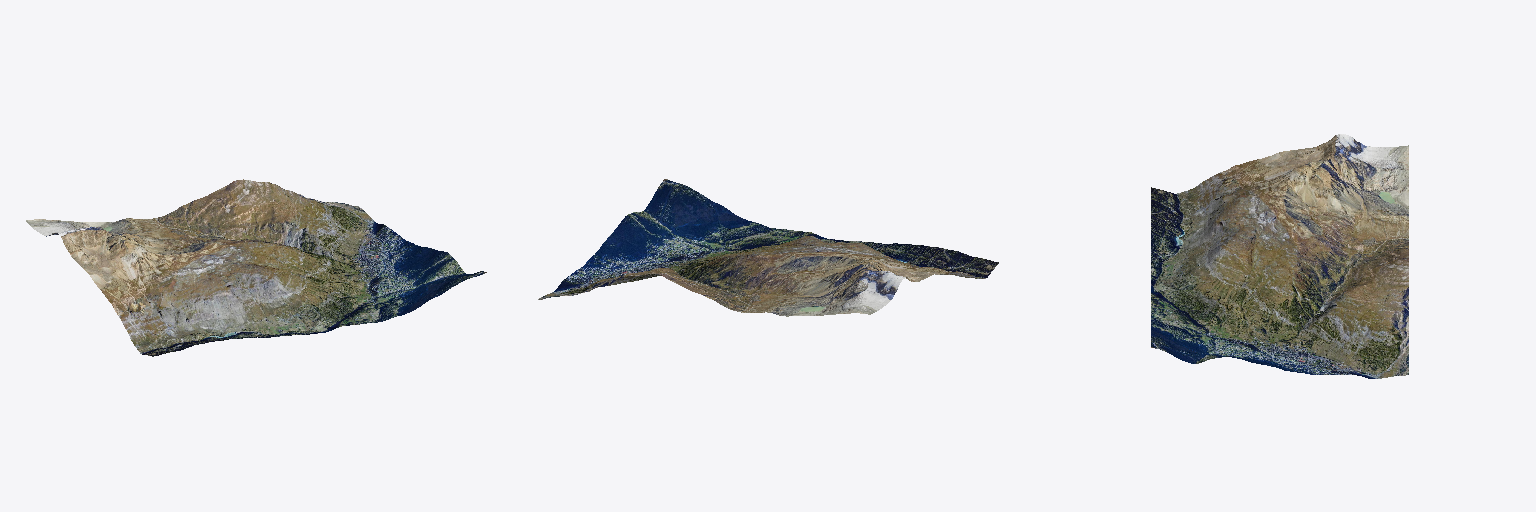
The picture shows the model from 3 angles: view 1: azimuth 30°, elevation 25°; view 2: azimuth 150°, elevation 25°; view 3: azimuth 270°, elevation 25°; orthographic projection.
Parts seen in each view (by area): view 1: EXPORT_GOOGLE_SAT_WM.022; view 2: EXPORT_GOOGLE_SAT_WM.022; view 3: EXPORT_GOOGLE_SAT_WM.022.
Boxes of the visible parts, x1,y1,x2,y2 form: EXPORT_GOOGLE_SAT_WM.022: [26, 179, 486, 356]; EXPORT_GOOGLE_SAT_WM.022: [538, 179, 998, 316]; EXPORT_GOOGLE_SAT_WM.022: [1151, 134, 1408, 378].
Size of the model in its own units: 9124 by 2175 by 6083.
Materials: 1 (1 with a texture image).